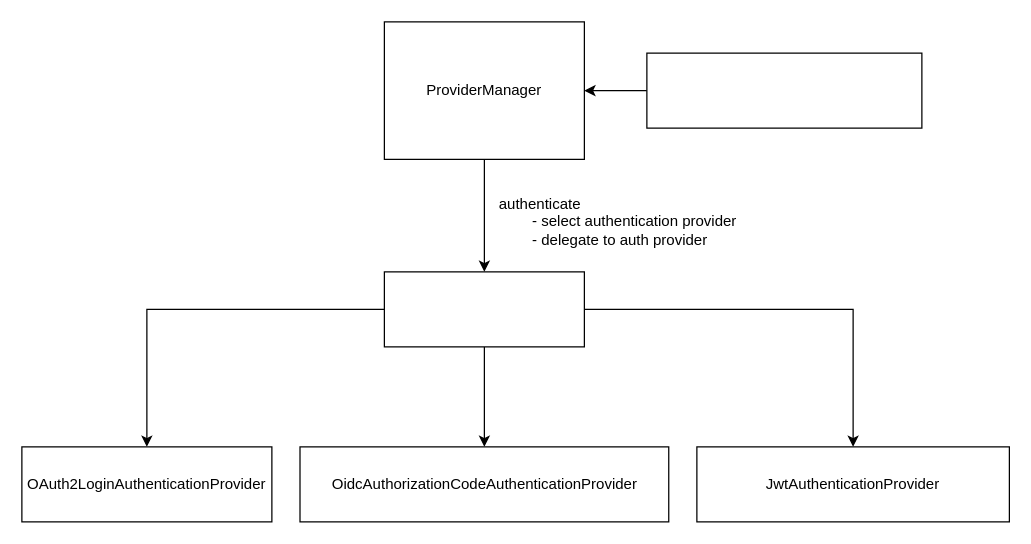
Some shapes in this 1031 by 544 pixel diagram are drawn without their labels. The shapes that lost their labels are listed below. From the top down, each one's box as (x1, y1, x2, y2) in pixels, then its label:
(646, 52, 922, 128): List<AuthenticationProvider>
(383, 271, 584, 347): AuthenticationProvider
